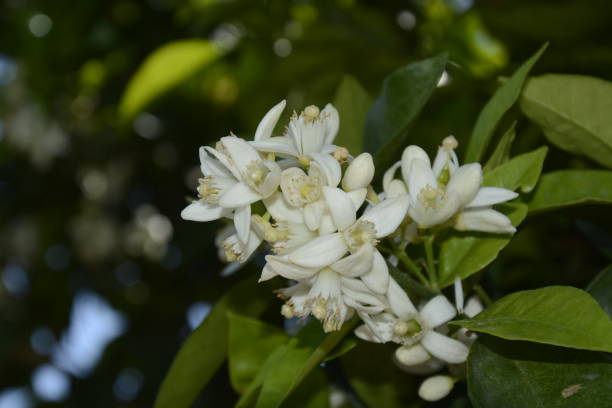flower: (297, 180, 401, 282), (368, 273, 463, 371), (288, 253, 386, 338), (183, 143, 258, 236), (387, 152, 463, 242), (264, 106, 348, 183), (217, 130, 285, 210), (319, 298, 319, 312)
